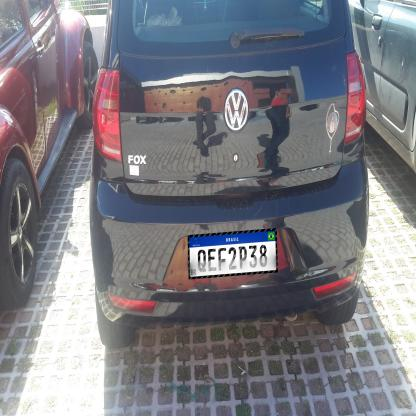PlacaM: (187, 229, 278, 280)
